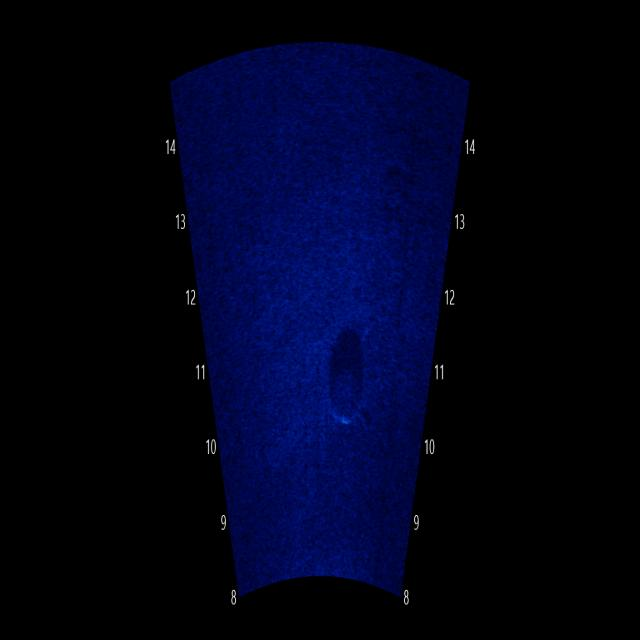circle: (309, 318, 383, 442)
